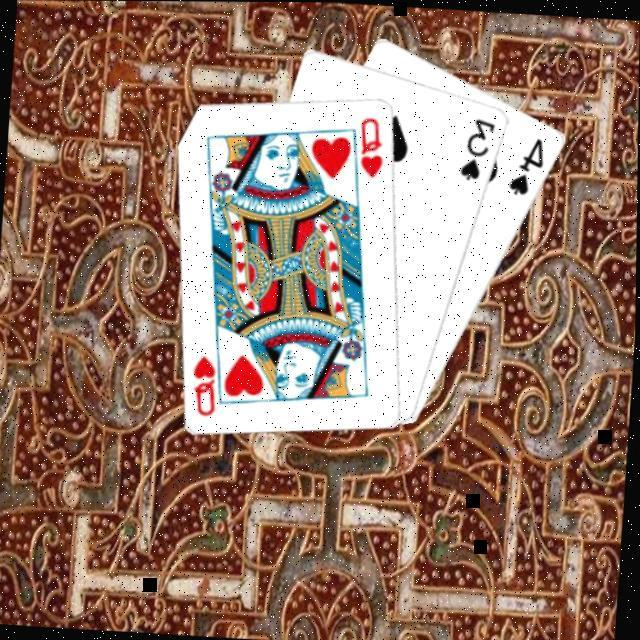3S: (457, 115, 501, 185)
4S: (507, 134, 550, 200)
QH: (189, 343, 232, 421), (356, 115, 390, 182)
